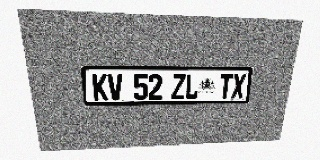2: (148, 74, 162, 100)
5: (134, 74, 148, 100)
K: (92, 74, 108, 101)
L: (185, 74, 199, 99)
T: (218, 74, 233, 99)
V: (107, 74, 123, 100)
X: (231, 74, 246, 98)
Z: (171, 74, 186, 99)
